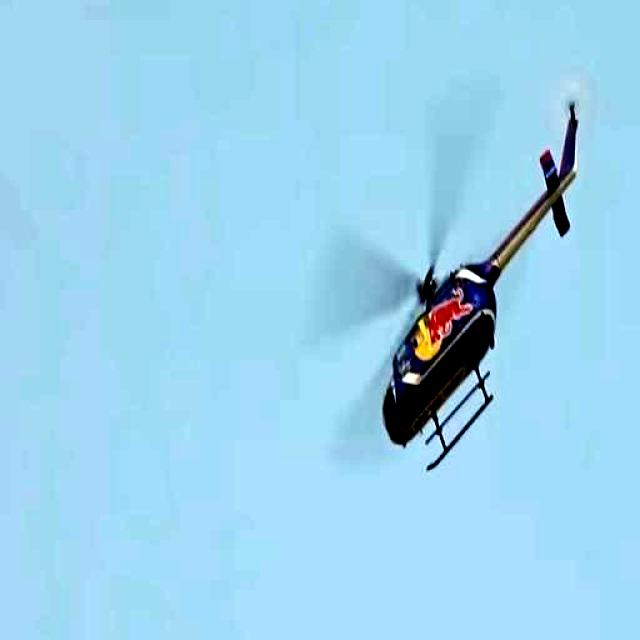drone: (358, 81, 584, 509)
